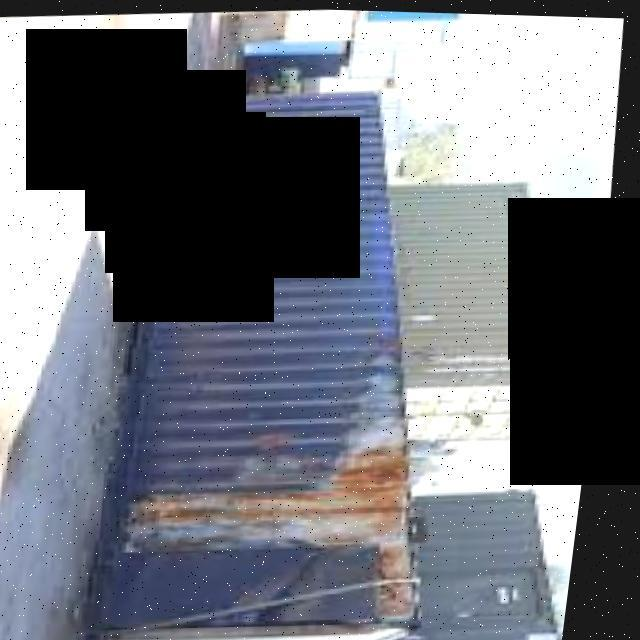dent: (172, 547, 355, 632)
rust: (114, 325, 467, 637)
